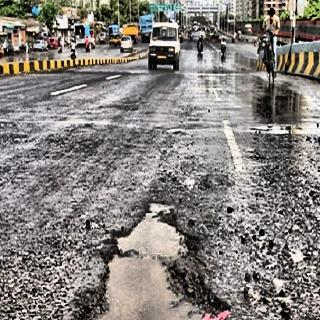pothole: (85, 182, 224, 320)
